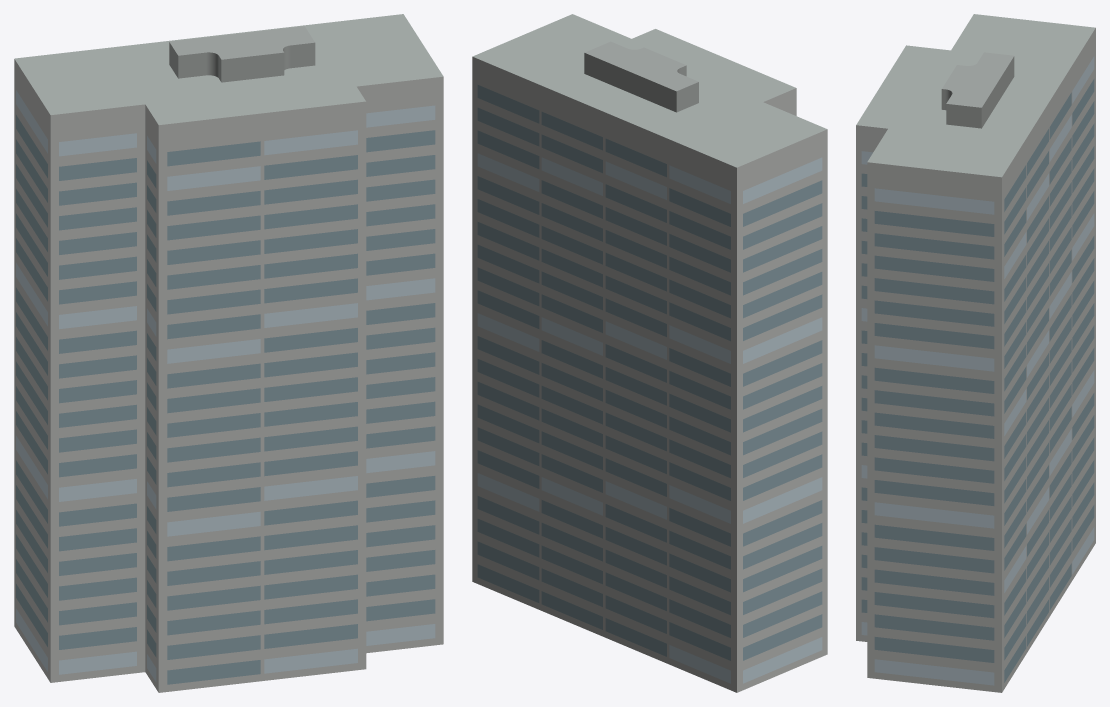
Rendered from apt-a10025034.glb.
3 views of the same model, side by side, from view 1: azimuth 30°, elevation 25°; view 2: azimuth 150°, elevation 25°; view 3: azimuth 270°, elevation 25° (orthographic). The views are drawn at different scales.
Parts seen in each view (by area): view 1: apt-a10025034; view 2: apt-a10025034; view 3: apt-a10025034.
Boxes of the visible parts, box(x1,y1,x2,y2) form: apt-a10025034: box(14, 14, 443, 692); apt-a10025034: box(472, 14, 827, 692); apt-a10025034: box(856, 14, 1095, 692).
Size of the model in its own units: 40.48 by 62 by 25.11.
